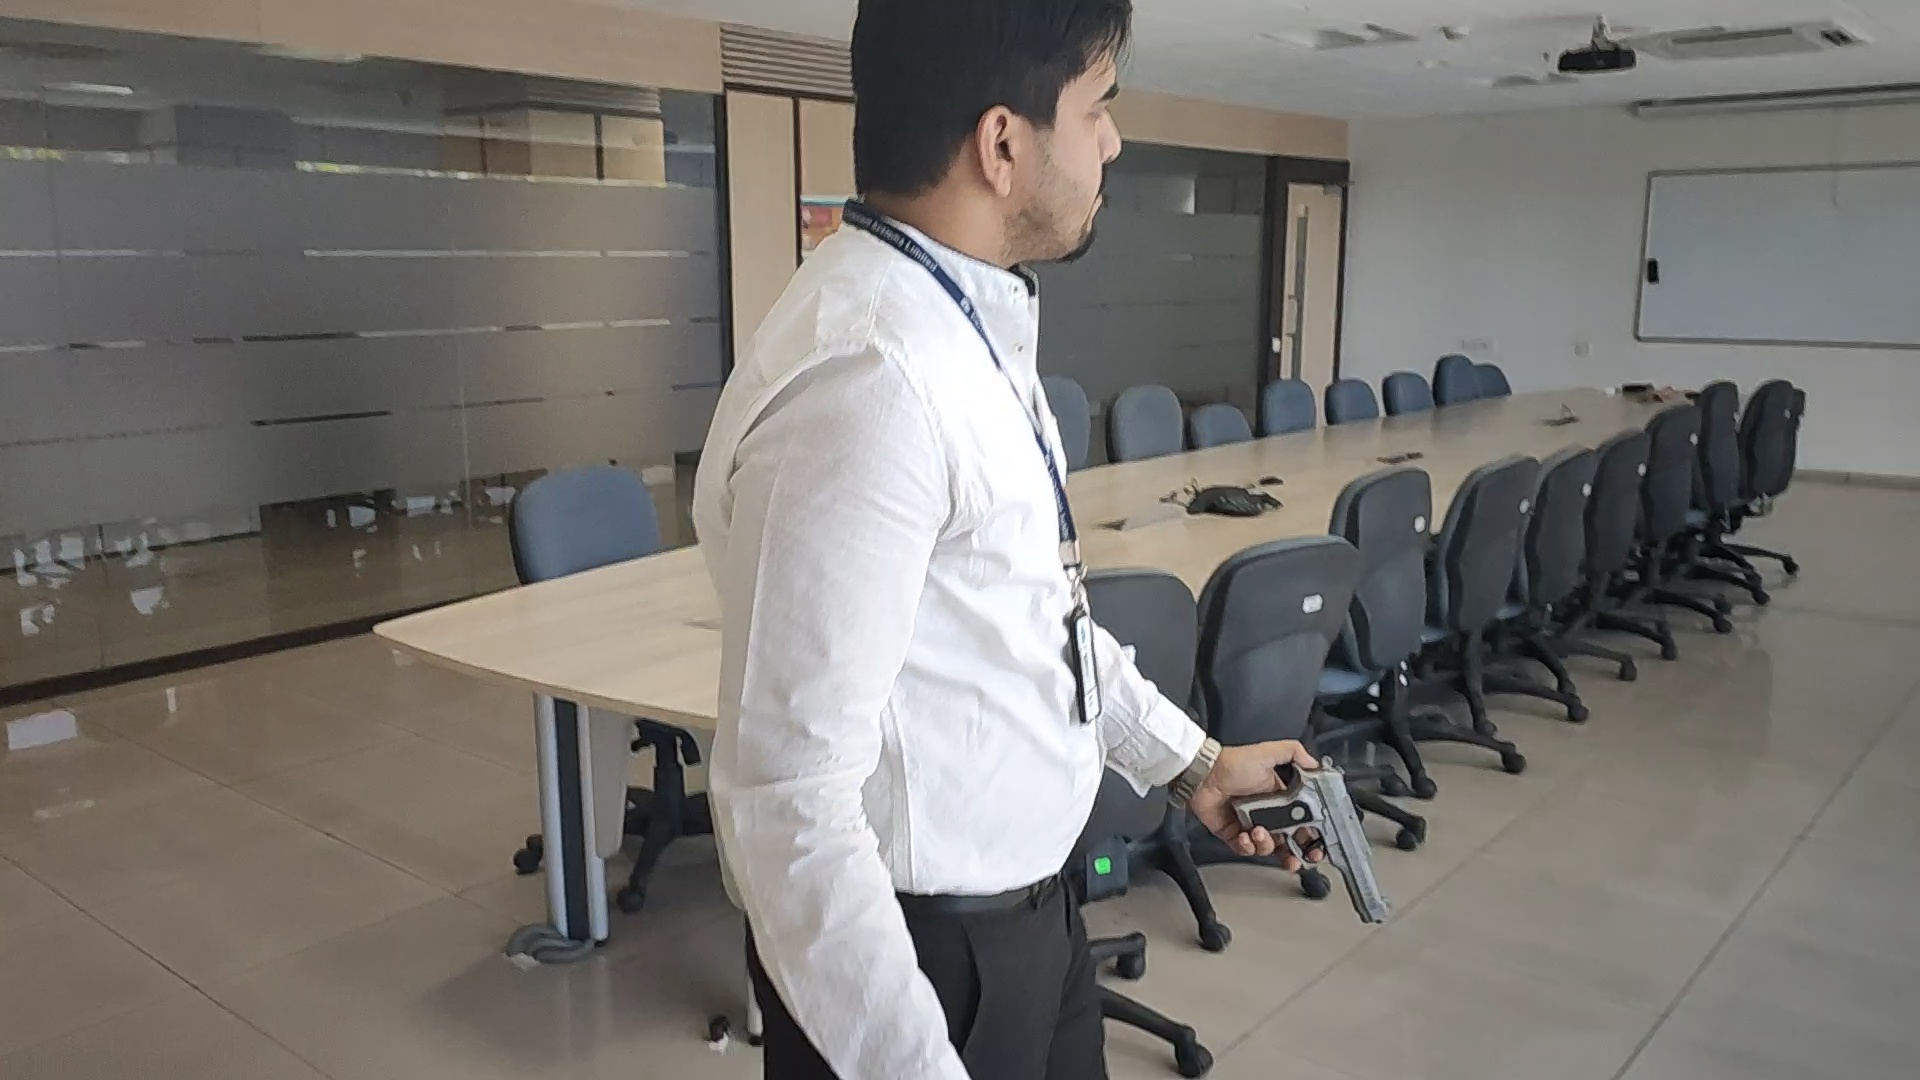gun: (1234, 785, 1394, 927)
